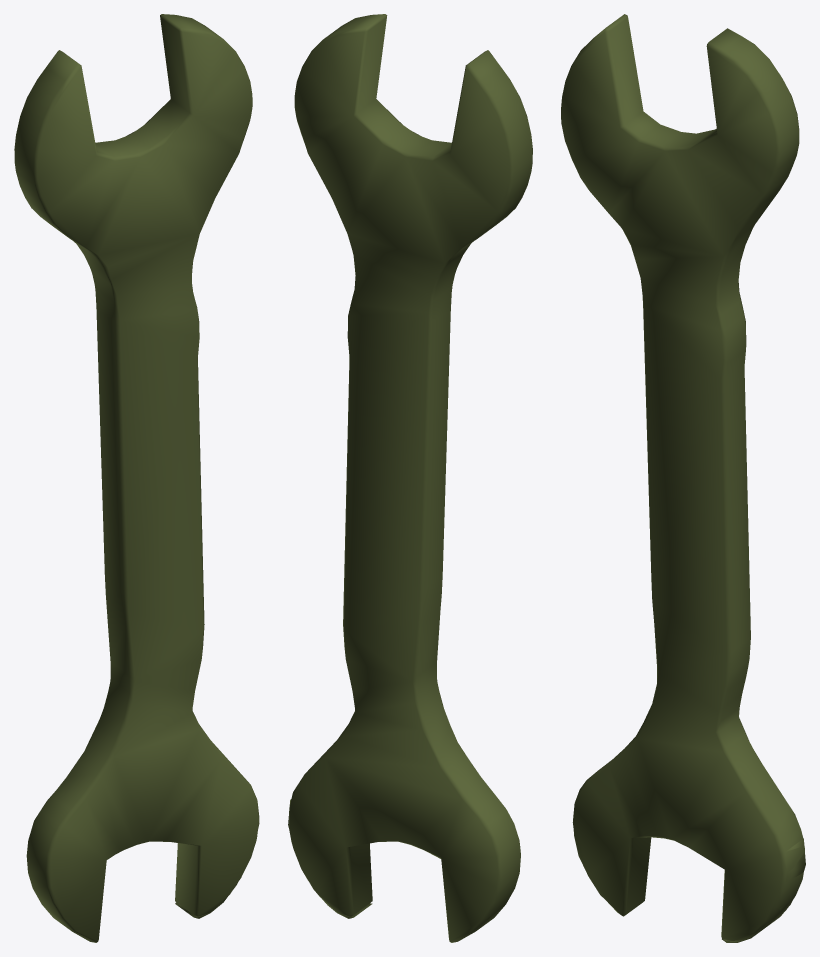
Rendered from Llave 2(ESCALADA).fbx.
The picture shows the model from 3 angles, left to right: view 1: azimuth 30°, elevation 25°; view 2: azimuth 150°, elevation 25°; view 3: azimuth 330°, elevation 25°; orthographic projection.
Parts seen in each view (by area): view 1: Llave_2; view 2: Llave_2; view 3: Llave_2.
Boxes of the visible parts, x1,y1,x2,y2 form: Llave_2: [14, 14, 259, 942]; Llave_2: [288, 14, 532, 942]; Llave_2: [561, 14, 805, 942].
Bounding box in the file's own units: 0.1388 × 0.5262 × 0.0247.
